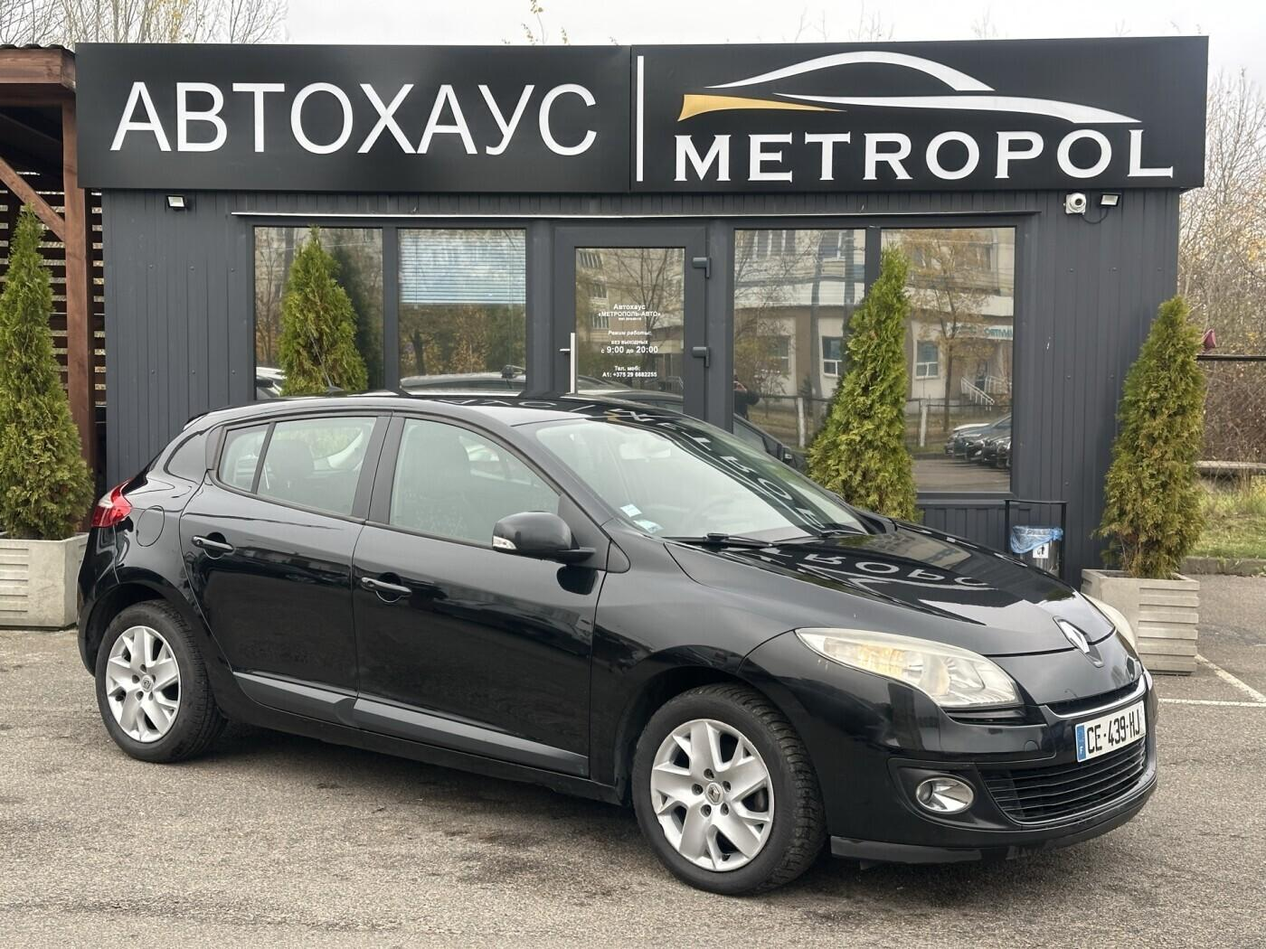Megane_2012-2014: (81, 382, 1169, 899)
